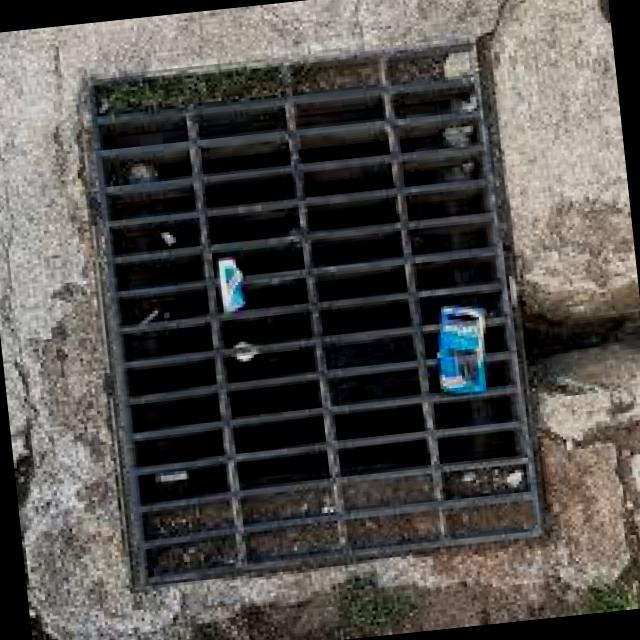drain_area: (91, 87, 528, 510)
drain_full: (81, 50, 542, 588)
